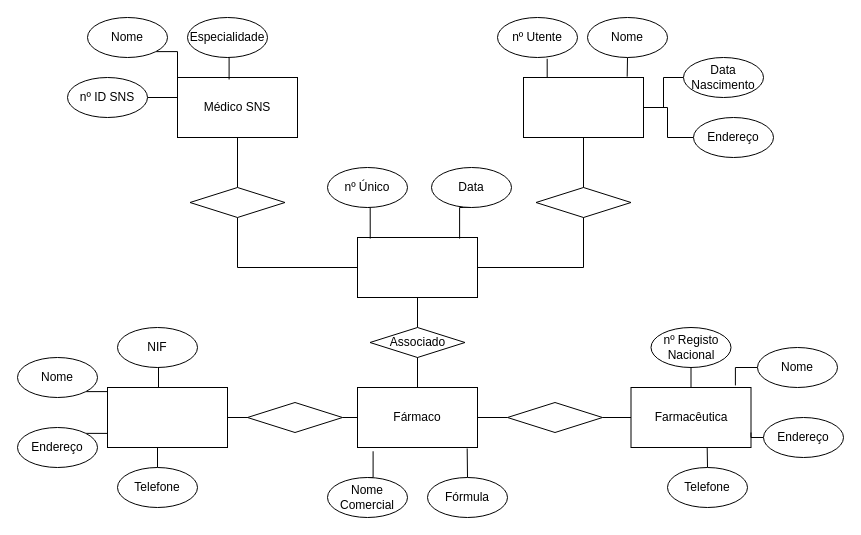
Some shapes in this 861 by 535 pixel diagram are drawn without their labels. Each missing label, with the box of its shape:
Efetua: (189, 186, 285, 218)
Farmácias: (106, 386, 228, 448)
Paciente: (522, 76, 644, 138)
Prescrição: (356, 236, 478, 298)
Produz: (506, 402, 602, 432)
Requisita: (535, 186, 631, 218)
Vende: (246, 402, 342, 432)
